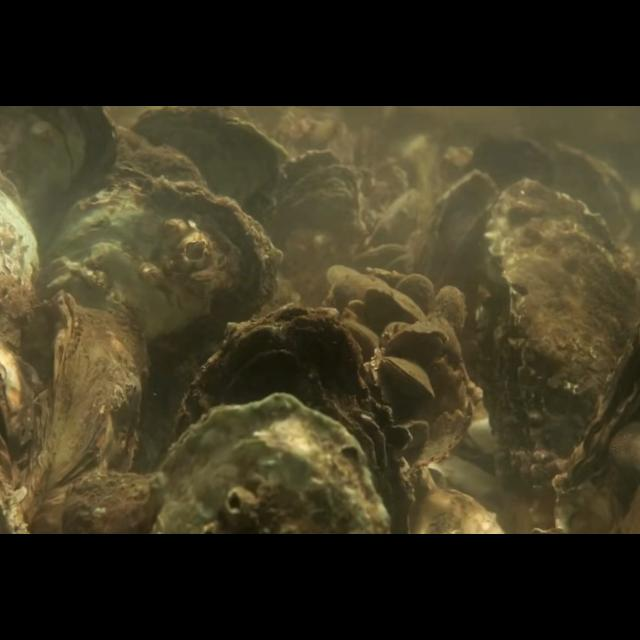Oyster-Closed: (50, 175, 284, 452), (180, 301, 412, 535), (152, 393, 390, 535), (28, 288, 148, 534), (420, 168, 500, 324), (364, 285, 424, 321), (387, 327, 449, 359), (394, 272, 434, 320), (434, 284, 466, 336)
Oyster-Open: (475, 178, 635, 476), (263, 149, 359, 291), (380, 356, 434, 398)
